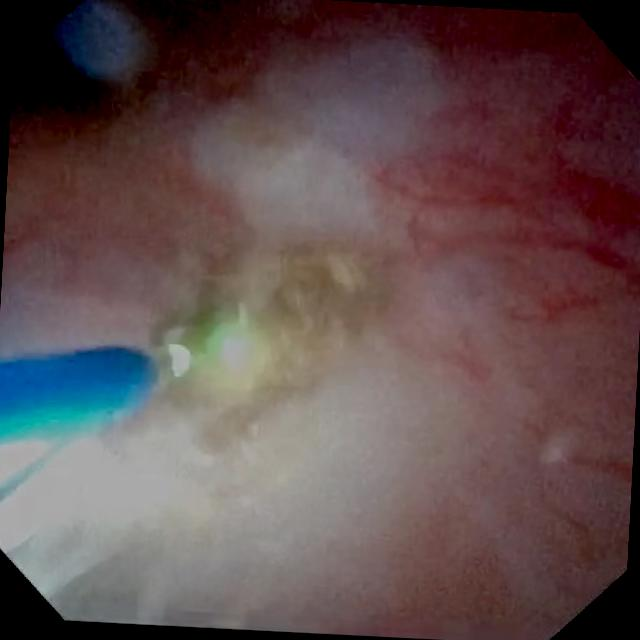laser-fibre: (145, 347, 189, 390)
laser_dot: (222, 335, 249, 370)
stone-new: (159, 248, 383, 452)
